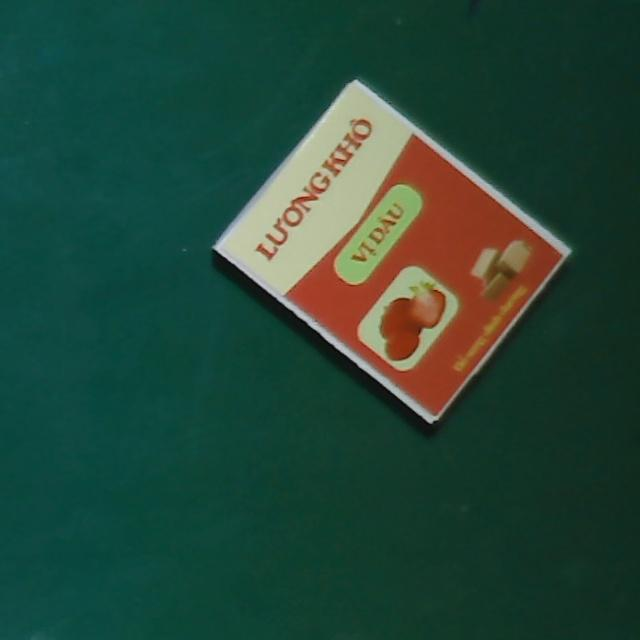dau: (210, 74, 574, 427)
